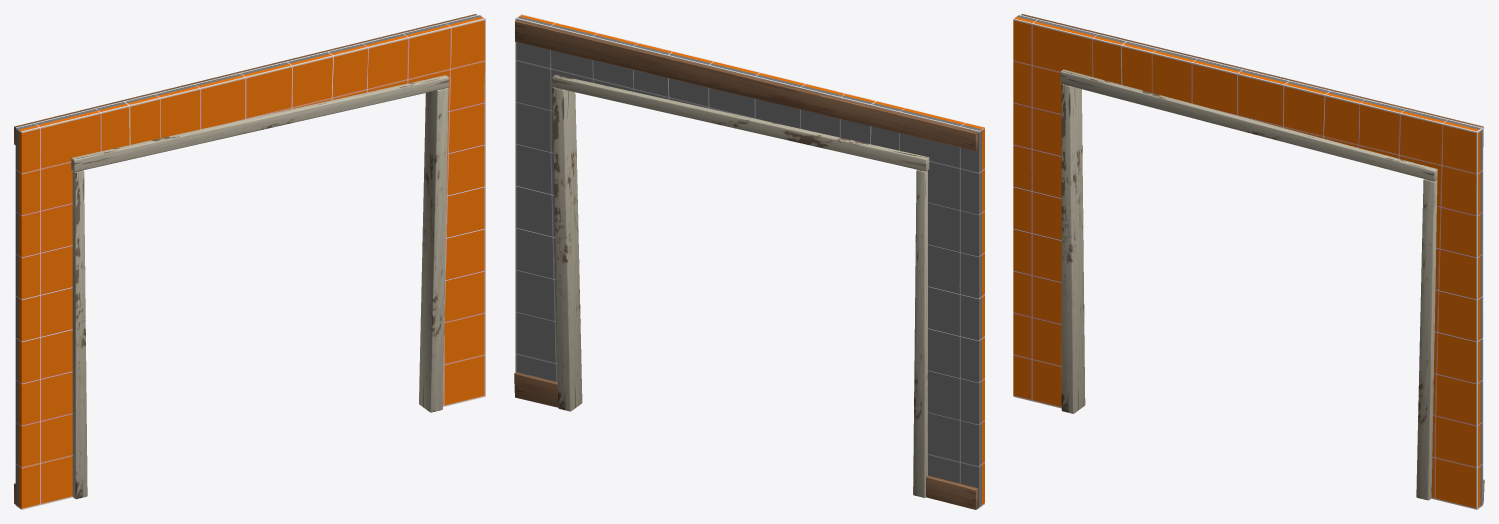
Rendered from Hangar01WD_3.FBX.
3 views of the same model, side by side, from view 1: azimuth 30°, elevation 25°; view 2: azimuth 150°, elevation 25°; view 3: azimuth 330°, elevation 25° (orthographic).
Visible parts, largest first — view 1: Hangar01WD_3; view 2: Hangar01WD_3; view 3: Hangar01WD_3.
Boxes of the visible parts, bbox=[...] form: Hangar01WD_3: bbox=[14, 14, 485, 509]; Hangar01WD_3: bbox=[514, 14, 984, 509]; Hangar01WD_3: bbox=[1013, 14, 1484, 509].
Size of what is drawn, in the model's own units: 4.5 by 3.5 by 0.2.
